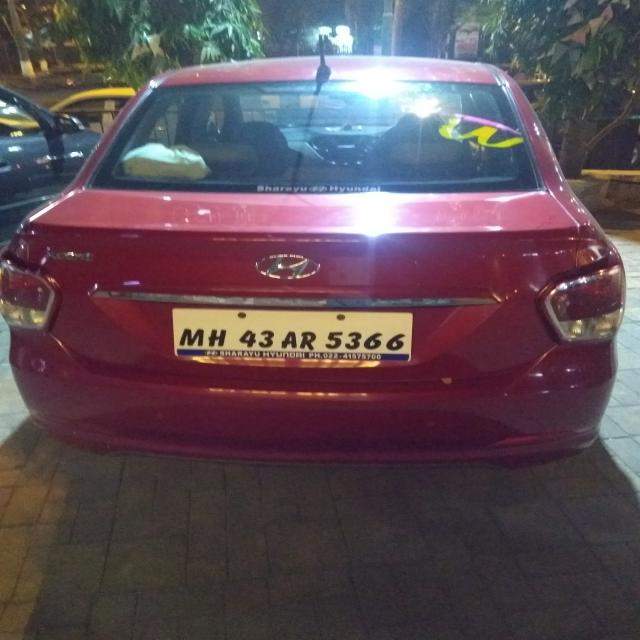Number-Plate: (180, 307, 412, 358)
